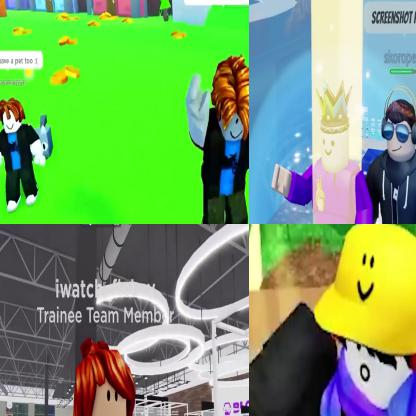Roblox-Avatar: (250, 225, 416, 416), (272, 79, 374, 224), (17, 338, 175, 416), (186, 55, 249, 224), (366, 85, 416, 224), (1, 98, 47, 216)
